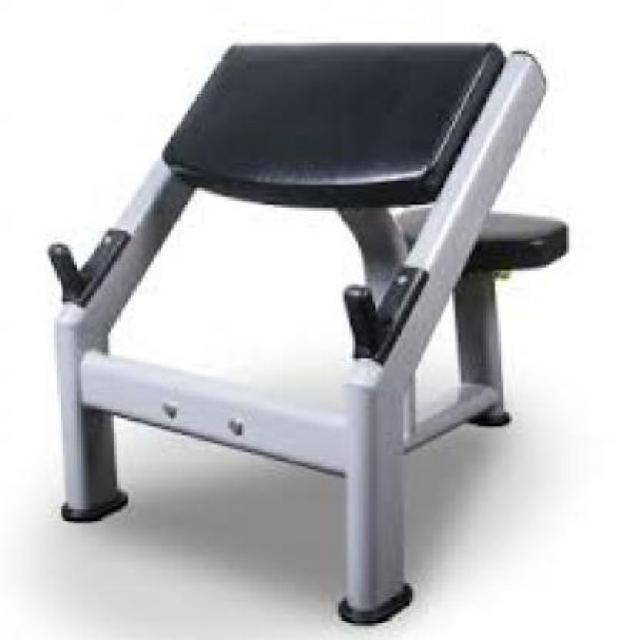arm curl machine: (46, 43, 568, 626)
